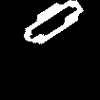chain: (24, 0, 82, 43)
